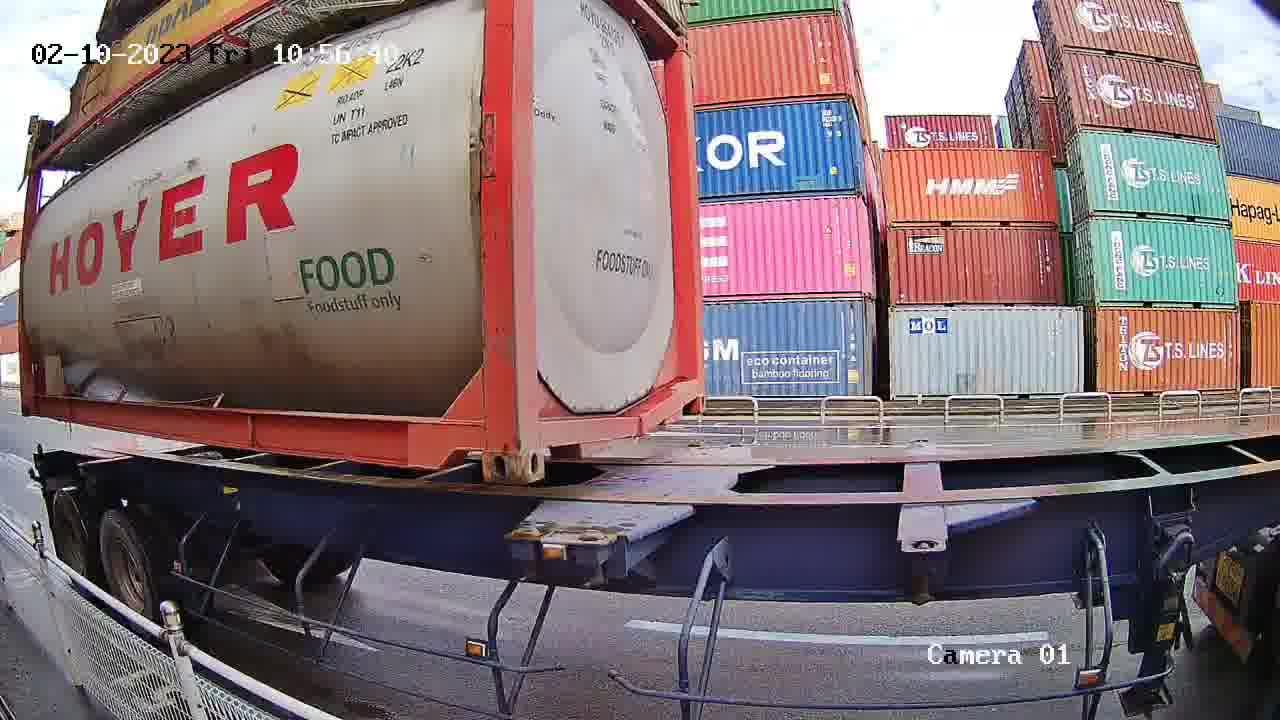Chassis: (514, 445, 703, 540), (575, 445, 752, 542)
Cone: (508, 523, 549, 586), (573, 530, 615, 589)
Hole_L: (519, 418, 570, 486)
Hole_R: (447, 419, 518, 484), (673, 375, 708, 418)
Tire: (100, 517, 156, 630), (53, 496, 97, 591)
